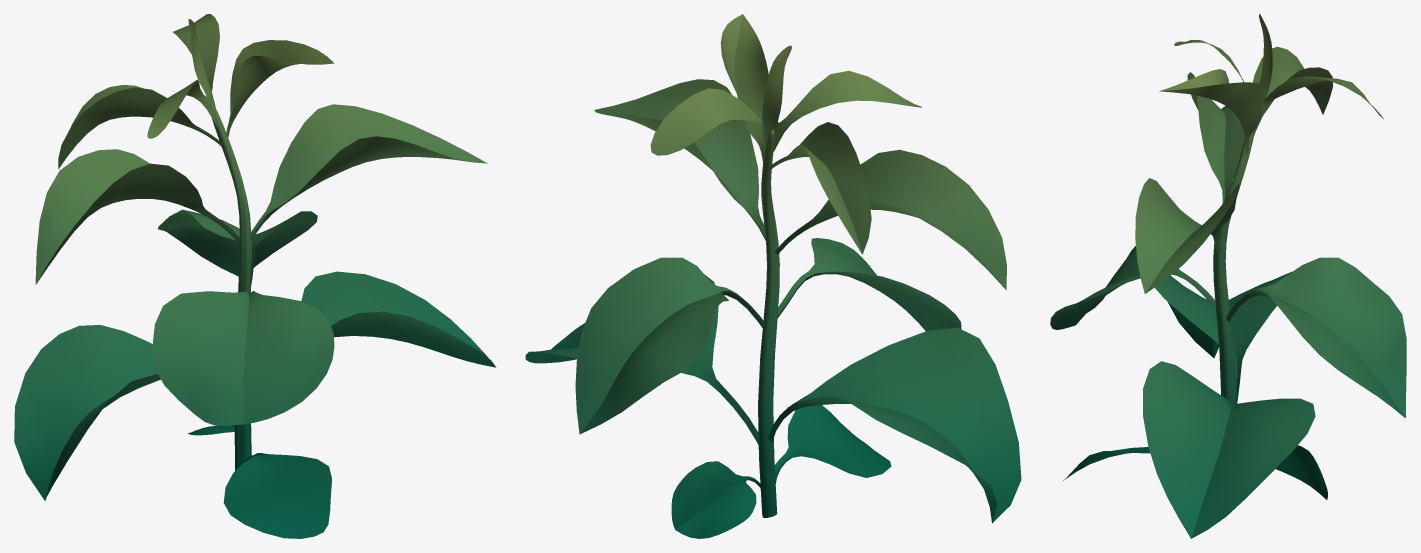
File: nettle_plant_2.glb
3 views of the same model, side by side, from view 1: azimuth 30°, elevation 25°; view 2: azimuth 150°, elevation 25°; view 3: azimuth 270°, elevation 25° (orthographic). The views are drawn at different scales.
Visible parts, largest first — view 1: nettle_plant_small_a_LOD0; view 2: nettle_plant_small_a_LOD0; view 3: nettle_plant_small_a_LOD0.
Part boxes in pixels (bbox=[...]): nettle_plant_small_a_LOD0: bbox=[14, 14, 496, 538]; nettle_plant_small_a_LOD0: bbox=[525, 14, 1021, 538]; nettle_plant_small_a_LOD0: bbox=[1050, 14, 1406, 538].
Bounding box in the file's own units: 0.0642 × 0.0626 × 0.0435.
